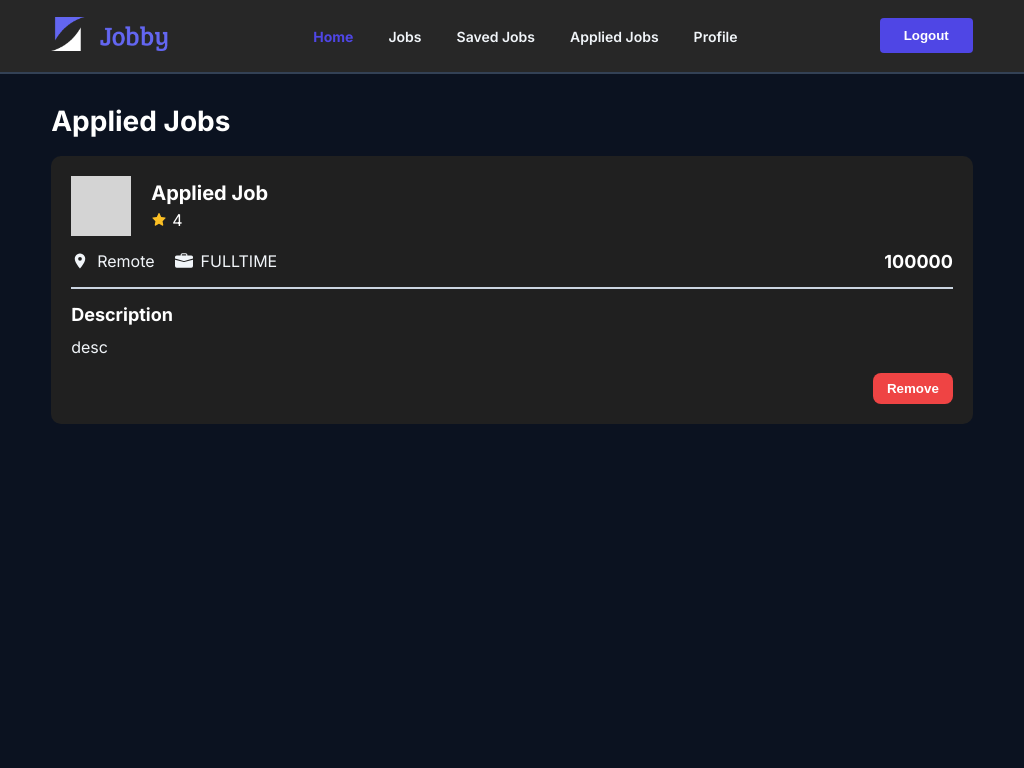
Test: JobsCollectionPage removal flow › removes an applied job optimistically
Expected: the heading "Applied Job" is shown, [151,181,268,205]
Click the button "Remove" at {"x": 913, "y": 388}, box [873,372,953,404]
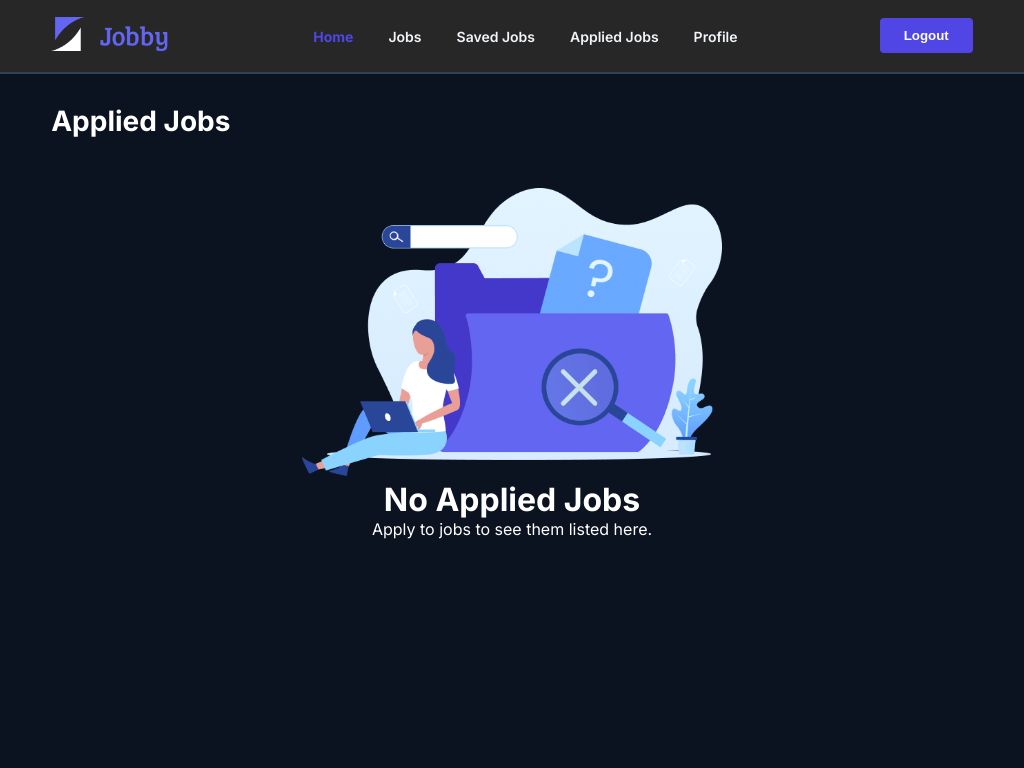
Expected: the text "Applied Job" is not shown
Expected: the heading "No Applied Jobs" is shown, [384,480,640,519]
